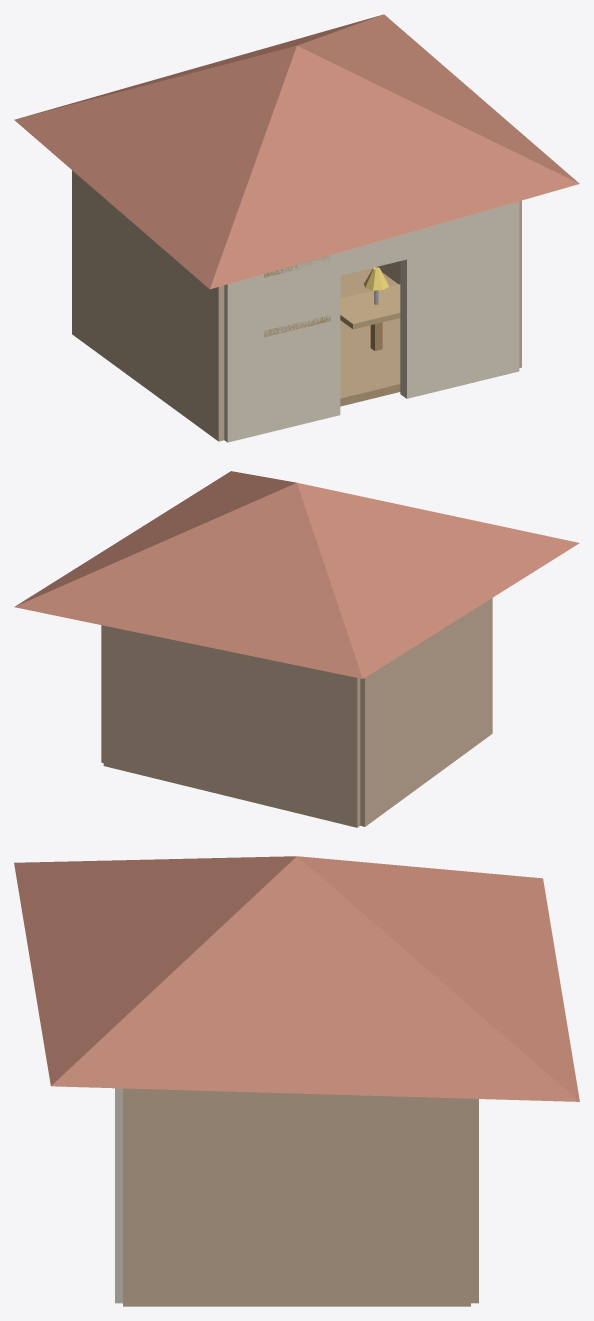
The model's file is house_cabin.fbx.
3 views of the same model, one above another, from view 1: azimuth 30°, elevation 25°; view 2: azimuth 150°, elevation 25°; view 3: azimuth 270°, elevation 25° (orthographic). The views are drawn at different scales.
Parts seen in each view (by area): view 1: Roof, Left, Front_R, Front_L, Int_Floor, Int_Table, Front_Top, Right; view 2: Roof, Back, Left; view 3: Roof, Right, Front_R, Back.
Boxes of the visible parts, x1,y1,x2,y2 form: Roof: (14, 14, 579, 289); Left: (72, 170, 224, 441); Front_R: (400, 201, 519, 398); Front_L: (224, 252, 340, 442); Int_Floor: (340, 267, 400, 406); Int_Table: (340, 284, 400, 329); Front_Top: (340, 233, 406, 275); Right: (376, 200, 521, 367); Roof: (14, 471, 579, 678); Back: (103, 625, 360, 827); Left: (360, 598, 492, 826); Roof: (14, 856, 579, 1101); Right: (123, 1088, 470, 1306); Front_R: (115, 1088, 122, 1303); Back: (471, 1098, 478, 1303).
Bounding box in the file's own units: 6.51 × 4.6 × 6.51.
